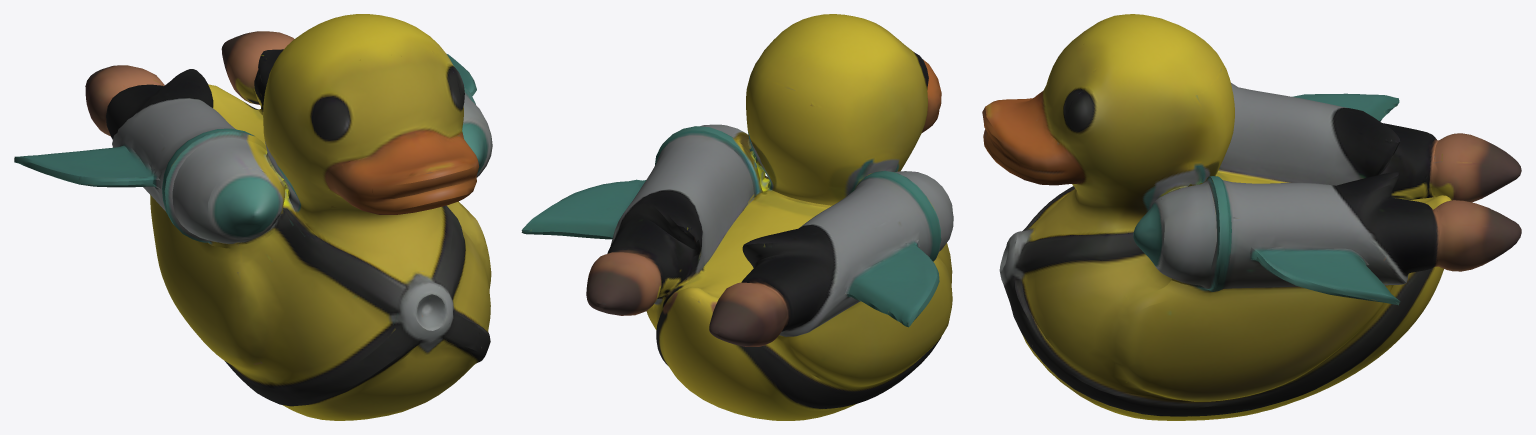
Rendered from utka_getpack_fixed.glb.
3 views of the same model, side by side, from view 1: azimuth 30°, elevation 25°; view 2: azimuth 150°, elevation 25°; view 3: azimuth 270°, elevation 25° (orthographic). The views are drawn at different scales.
Visible parts, largest first — view 1: Mesh0; view 2: Mesh0; view 3: Mesh0.
Boxes of the visible parts, <box> form: Mesh0: <box>14,14,492,420</box>; Mesh0: <box>521,14,953,420</box>; Mesh0: <box>982,14,1521,420</box>.
Size of the model in its own units: 1.69 by 1.44 by 1.9.
Materials: 1 (1 with a texture image).
